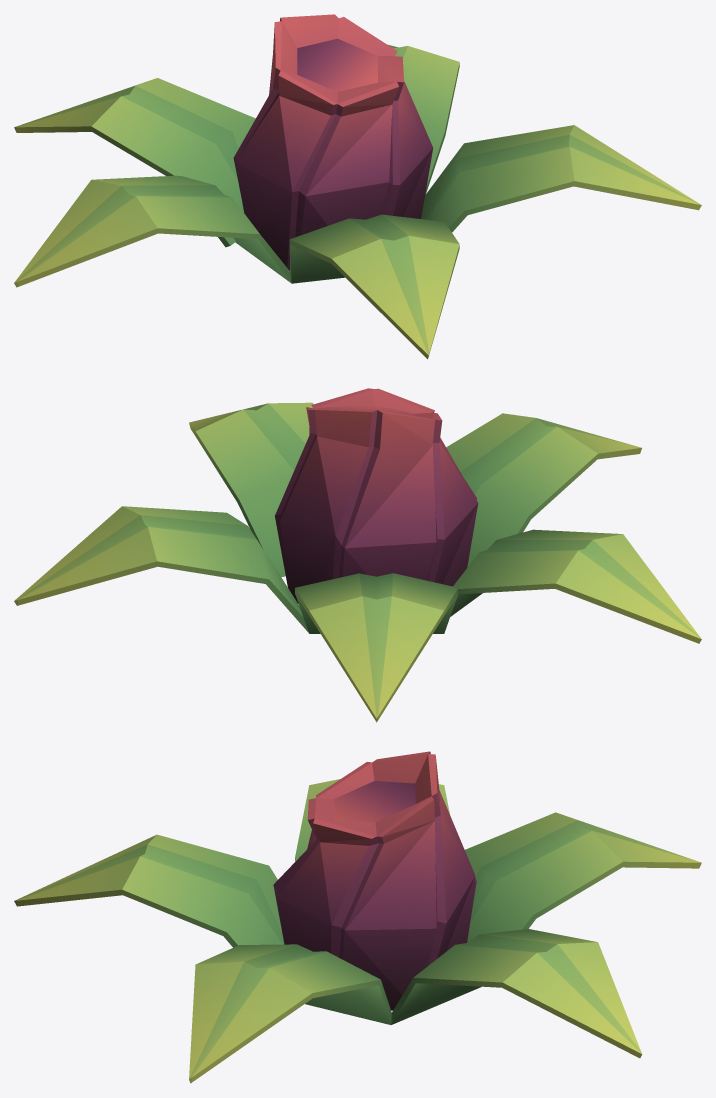
File: plantFlower1.fbx
3 renders of one model, top to bottom at view 1: azimuth 30°, elevation 25°; view 2: azimuth 150°, elevation 25°; view 3: azimuth 270°, elevation 25°, orthographic.
Visible parts, largest first — view 1: plantFlower1; view 2: plantFlower1; view 3: plantFlower1.
Part boxes in pixels (<box>): plantFlower1: <box>14,14,701,359</box>; plantFlower1: <box>14,388,701,722</box>; plantFlower1: <box>14,751,701,1083</box>.
Size of the model in its own units: 519 by 174 by 509.
